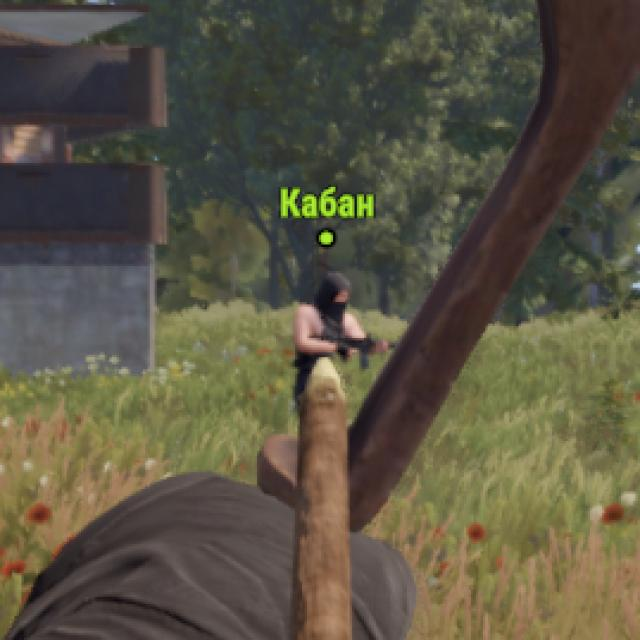Player: (289, 273, 368, 355)
